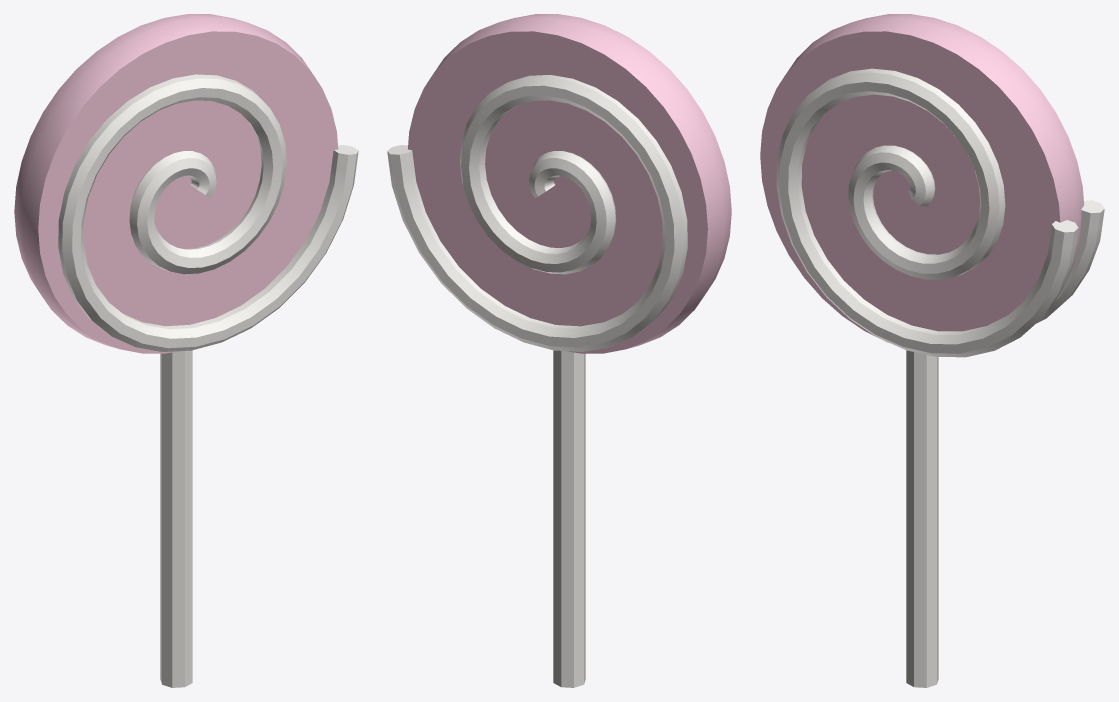
File: Lollipop_SmallPink.fbx
3 renders of one model, left to right at view 1: azimuth 30°, elevation 25°; view 2: azimuth 150°, elevation 25°; view 3: azimuth 330°, elevation 25°, orthographic.
Visible parts, largest first — view 1: Lollipop_SmallPink; view 2: Lollipop_SmallPink; view 3: Lollipop_SmallPink.
Boxes of the visible parts, x1,y1,x2,y2 form: Lollipop_SmallPink: (14,14,358,687); Lollipop_SmallPink: (387,14,731,687); Lollipop_SmallPink: (760,14,1104,687).
Size of the model in its own units: 3.12 by 6.1 by 0.665.
